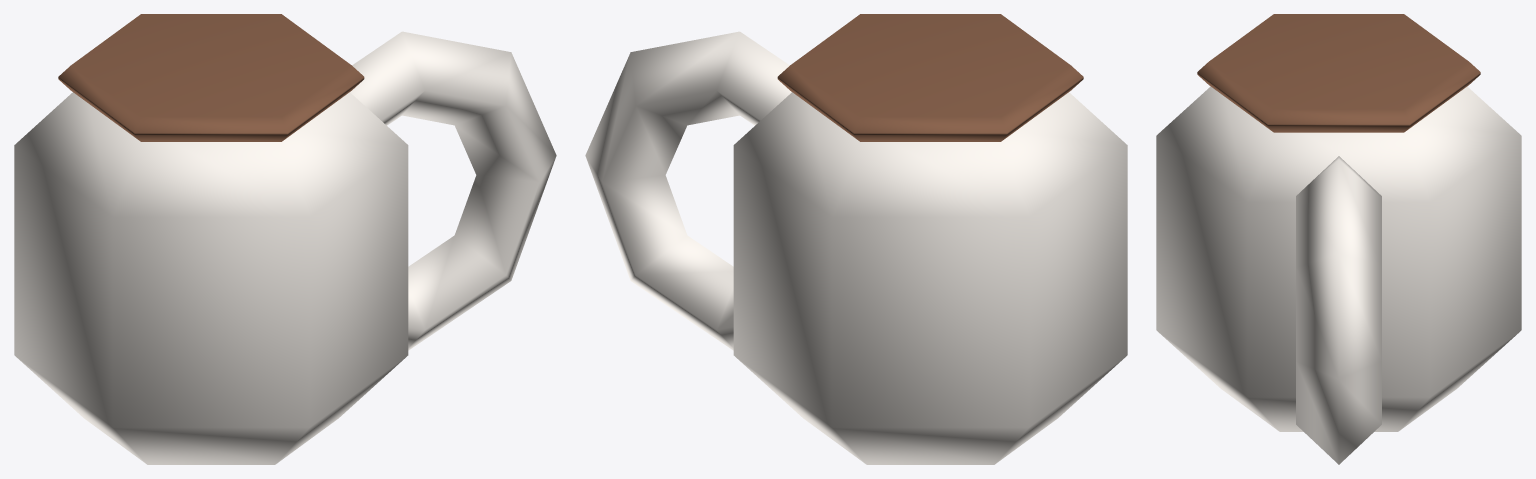
File: mug.glb
The picture shows the model from 3 angles, left to right: view 1: azimuth 30°, elevation 25°; view 2: azimuth 150°, elevation 25°; view 3: azimuth 270°, elevation 25°; orthographic projection. The views are drawn at different scales.
Visible parts, largest first — view 1: part (×2), handle; view 2: part (×2), handle; view 3: part (×2), handle.
Boxes of the visible parts, box(x1,y1,x2,y2) form: part (×2): box(14, 14, 408, 464); handle: box(350, 31, 556, 350); part (×2): box(733, 14, 1127, 464); handle: box(585, 31, 791, 350); part (×2): box(1156, 14, 1521, 431); handle: box(1296, 156, 1381, 464).
Size of the model in its own units: 0.2456 by 0.168 by 0.17.
Materials: 1 (1 with a texture image).
